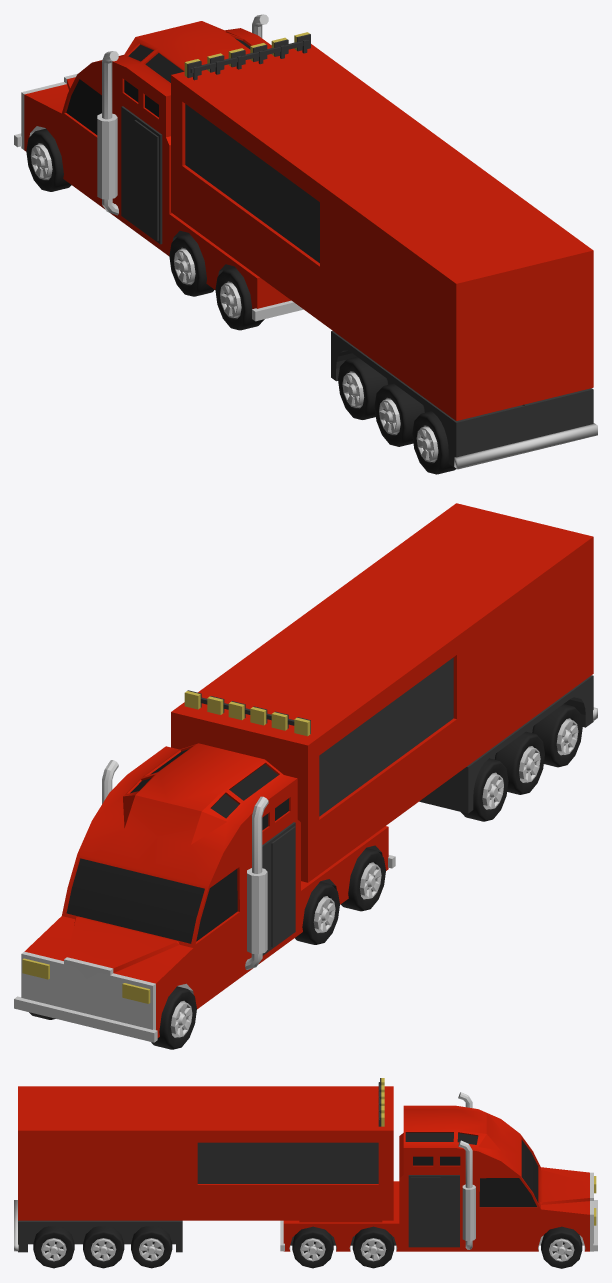
The model's file is heavytruck.dae.
3 views of the same model, one above another, from view 1: azimuth 30°, elevation 25°; view 2: azimuth 150°, elevation 25°; view 3: azimuth 270°, elevation 25° (orthographic). The views are drawn at different scales.
Parts seen in each view (by area): view 1: Cube_004, Cube_005, Cylinder_023, Cylinder_022, Cylinder_029, Cylinder_030, Cylinder_028, Cylinder_021; view 2: Cube_004, Cube_005, Cylinder_021, Cylinder_023, Cylinder_028, Cylinder_029, Cylinder_030, Cylinder_022; view 3: Cube_004, Cube_005, Cylinder_025, Cylinder_024, Cylinder_020, Cylinder_031, Cylinder_026, Cylinder_027.
Boxes of the visible parts, x1=… form: Cube_004: x1=171, y1=32, x2=597, y2=469; Cube_005: x1=14, y1=14, x2=303, y2=321; Cylinder_023: x1=374, y1=383, x2=424, y2=446; Cylinder_022: x1=338, y1=357, x2=388, y2=419; Cylinder_029: x1=169, y1=233, x2=214, y2=296; Cylinder_030: x1=26, y1=128, x2=71, y2=191; Cylinder_028: x1=215, y1=267, x2=264, y2=330; Cylinder_021: x1=412, y1=411, x2=455, y2=474; Cube_004: x1=171, y1=503, x2=597, y2=882; Cube_005: x1=14, y1=743, x2=395, y2=1042; Cylinder_021: x1=532, y1=704, x2=582, y2=767; Cylinder_023: x1=494, y1=731, x2=544, y2=794; Cylinder_028: x1=341, y1=848, x2=385, y2=911; Cylinder_029: x1=295, y1=881, x2=339, y2=944; Cylinder_030: x1=151, y1=986, x2=196, y2=1049; Cylinder_022: x1=461, y1=758, x2=508, y2=821; Cube_004: x1=14, y1=1078, x2=393, y2=1252; Cube_005: x1=280, y1=1092, x2=597, y2=1251; Cylinder_025: x1=131, y1=1226, x2=172, y2=1268; Cylinder_024: x1=83, y1=1226, x2=124, y2=1268; Cylinder_020: x1=33, y1=1226, x2=74, y2=1268; Cylinder_031: x1=541, y1=1226, x2=582, y2=1268; Cylinder_026: x1=352, y1=1226, x2=394, y2=1268; Cylinder_027: x1=292, y1=1226, x2=333, y2=1268.
Bounding box in the file's own units: 4.5 × 20.6 × 5.76.
